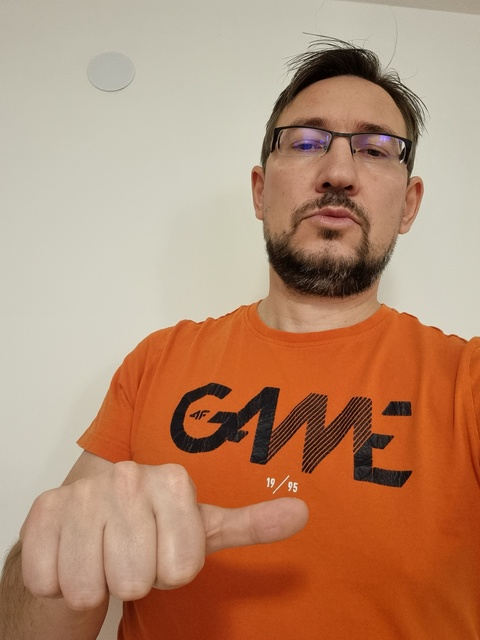GestBack: (21, 461, 310, 611)
